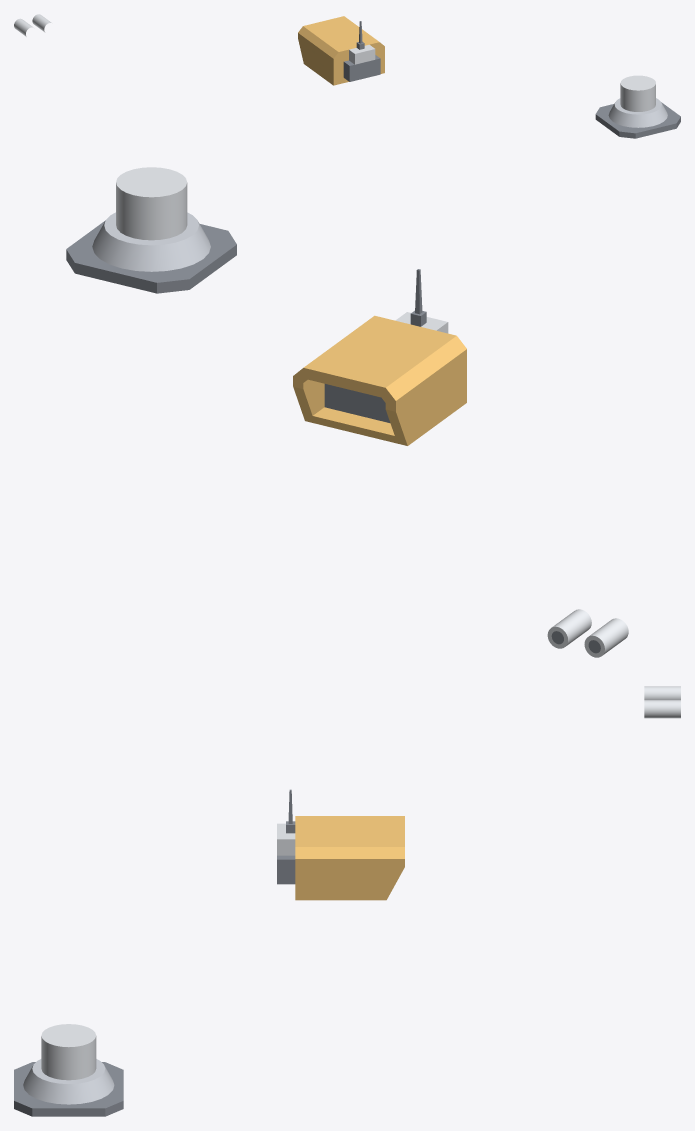
The model's file is turret_single.glb.
The picture shows the model from 3 angles, top to bottom: view 1: azimuth 30°, elevation 25°; view 2: azimuth 150°, elevation 25°; view 3: azimuth 270°, elevation 25°; orthographic projection. The views are drawn at different scales.
Parts seen in each view (by area): view 1: turret.001, turret_single; view 2: turret.001, turret_single, Group.001, Group; view 3: turret.001, turret_single, Group.
Boxes of the visible parts, box(x1,y1,x2,y2) form: turret.001: box(298, 16, 384, 85); turret_single: box(595, 75, 680, 138); turret.001: box(293, 269, 466, 445); turret_single: box(66, 167, 236, 293); Group.001: box(584, 618, 628, 657); Group: box(547, 609, 591, 648); turret.001: box(277, 789, 404, 900); turret_single: box(14, 1024, 123, 1116); Group: box(644, 700, 680, 718).
Bounding box in the file's own units: 4.44 × 0.9 × 3.65.
